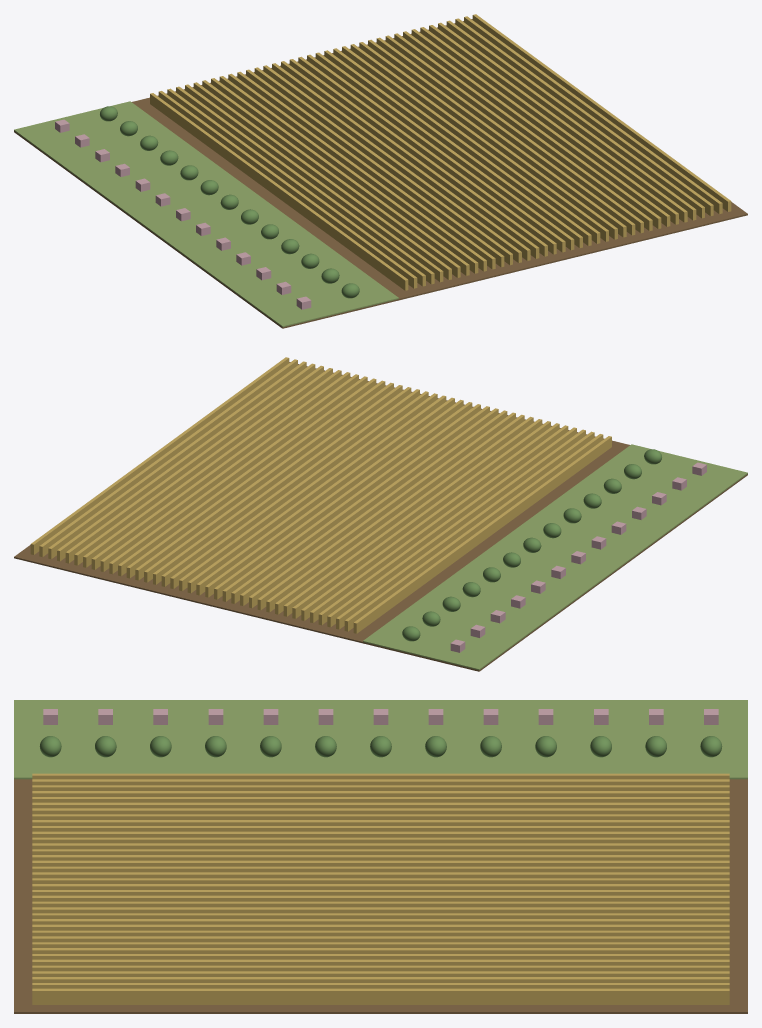
The model's file is living-margin.glb.
The picture shows the model from 3 angles, top to bottom: view 1: azimuth 30°, elevation 25°; view 2: azimuth 150°, elevation 25°; view 3: azimuth 270°, elevation 25°; orthographic projection. The views are drawn at different scales.
Visible parts, largest first — view 1: living-margin; view 2: living-margin; view 3: living-margin.
Boxes of the visible parts, bbox=[...] form: living-margin: bbox=[14, 14, 747, 328]; living-margin: bbox=[14, 357, 747, 671]; living-margin: bbox=[14, 700, 747, 1013].
Size of the model in its own units: 40 by 1.24 by 40.
